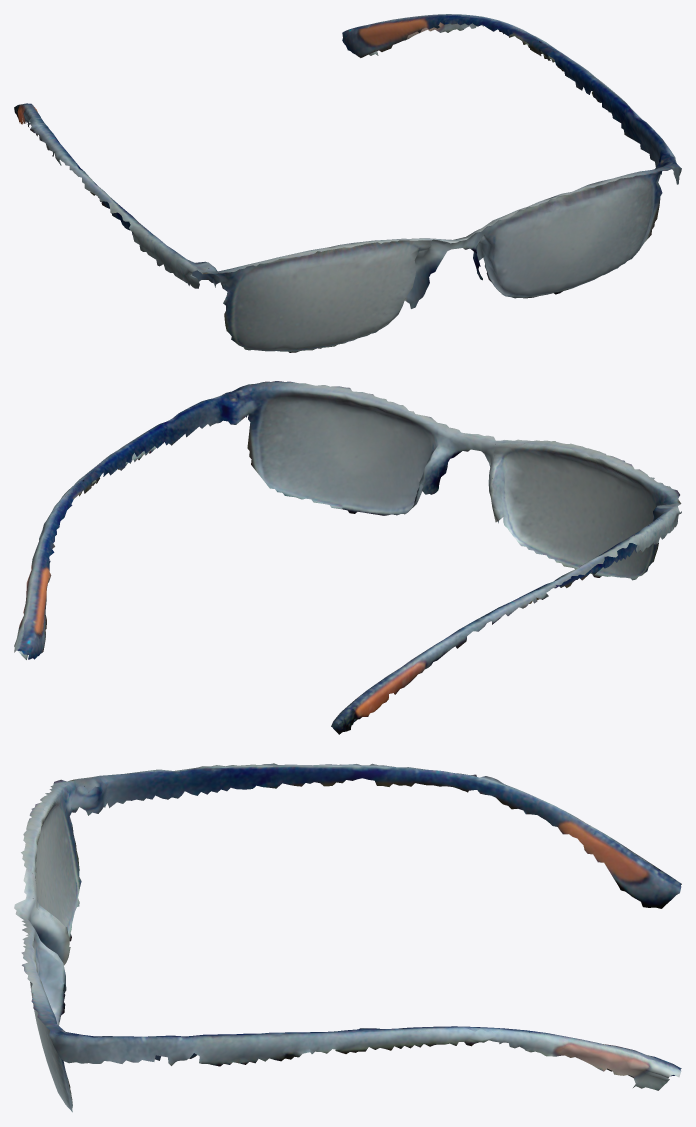
Rendered from scan_align.obj.
The picture shows the model from 3 angles, top to bottom: view 1: azimuth 30°, elevation 25°; view 2: azimuth 150°, elevation 25°; view 3: azimuth 270°, elevation 25°; orthographic projection. The views are drawn at different scales.
Bounding box in the file's own units: 0.1486 × 0.032 × 0.1521.
Materials: 1 (1 with a texture image).
